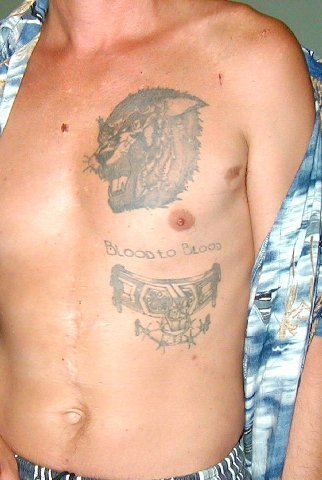tatu3_bukva: (97, 237, 224, 258)
tatu5_tigr: (84, 84, 208, 214)
